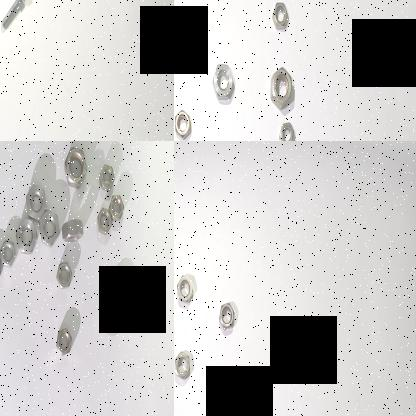Bolts: (0, 0, 32, 33)
NUTS: (268, 64, 296, 112), (64, 144, 90, 194), (210, 62, 236, 102), (24, 180, 48, 223), (14, 218, 40, 256), (102, 284, 124, 328), (38, 212, 62, 247), (59, 217, 89, 243), (271, 0, 292, 36), (207, 380, 228, 416), (174, 104, 194, 141), (174, 272, 194, 308), (98, 162, 118, 197), (218, 300, 237, 334), (0, 234, 16, 274), (174, 349, 191, 385), (55, 326, 73, 359), (55, 260, 74, 290), (108, 193, 126, 223), (96, 204, 113, 234), (277, 118, 297, 141)
